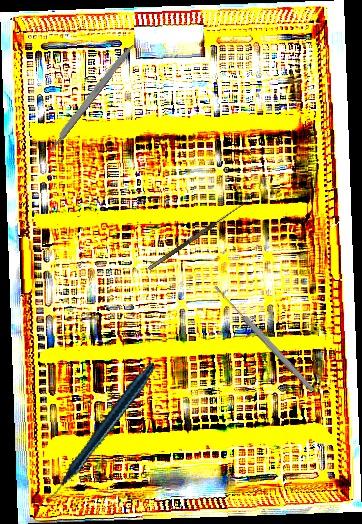Handpiece: (14, 362, 182, 500)
Hook Surgical: (144, 197, 246, 271)
Scalpel Handle: (45, 41, 136, 154)
Surgical Spoon: (211, 282, 317, 394)
